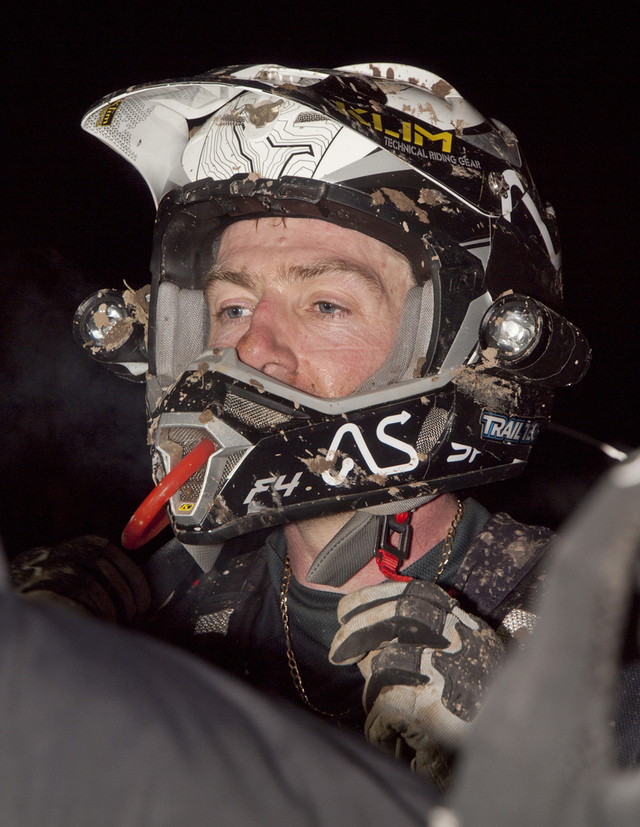helmet: (116, 53, 592, 501)
